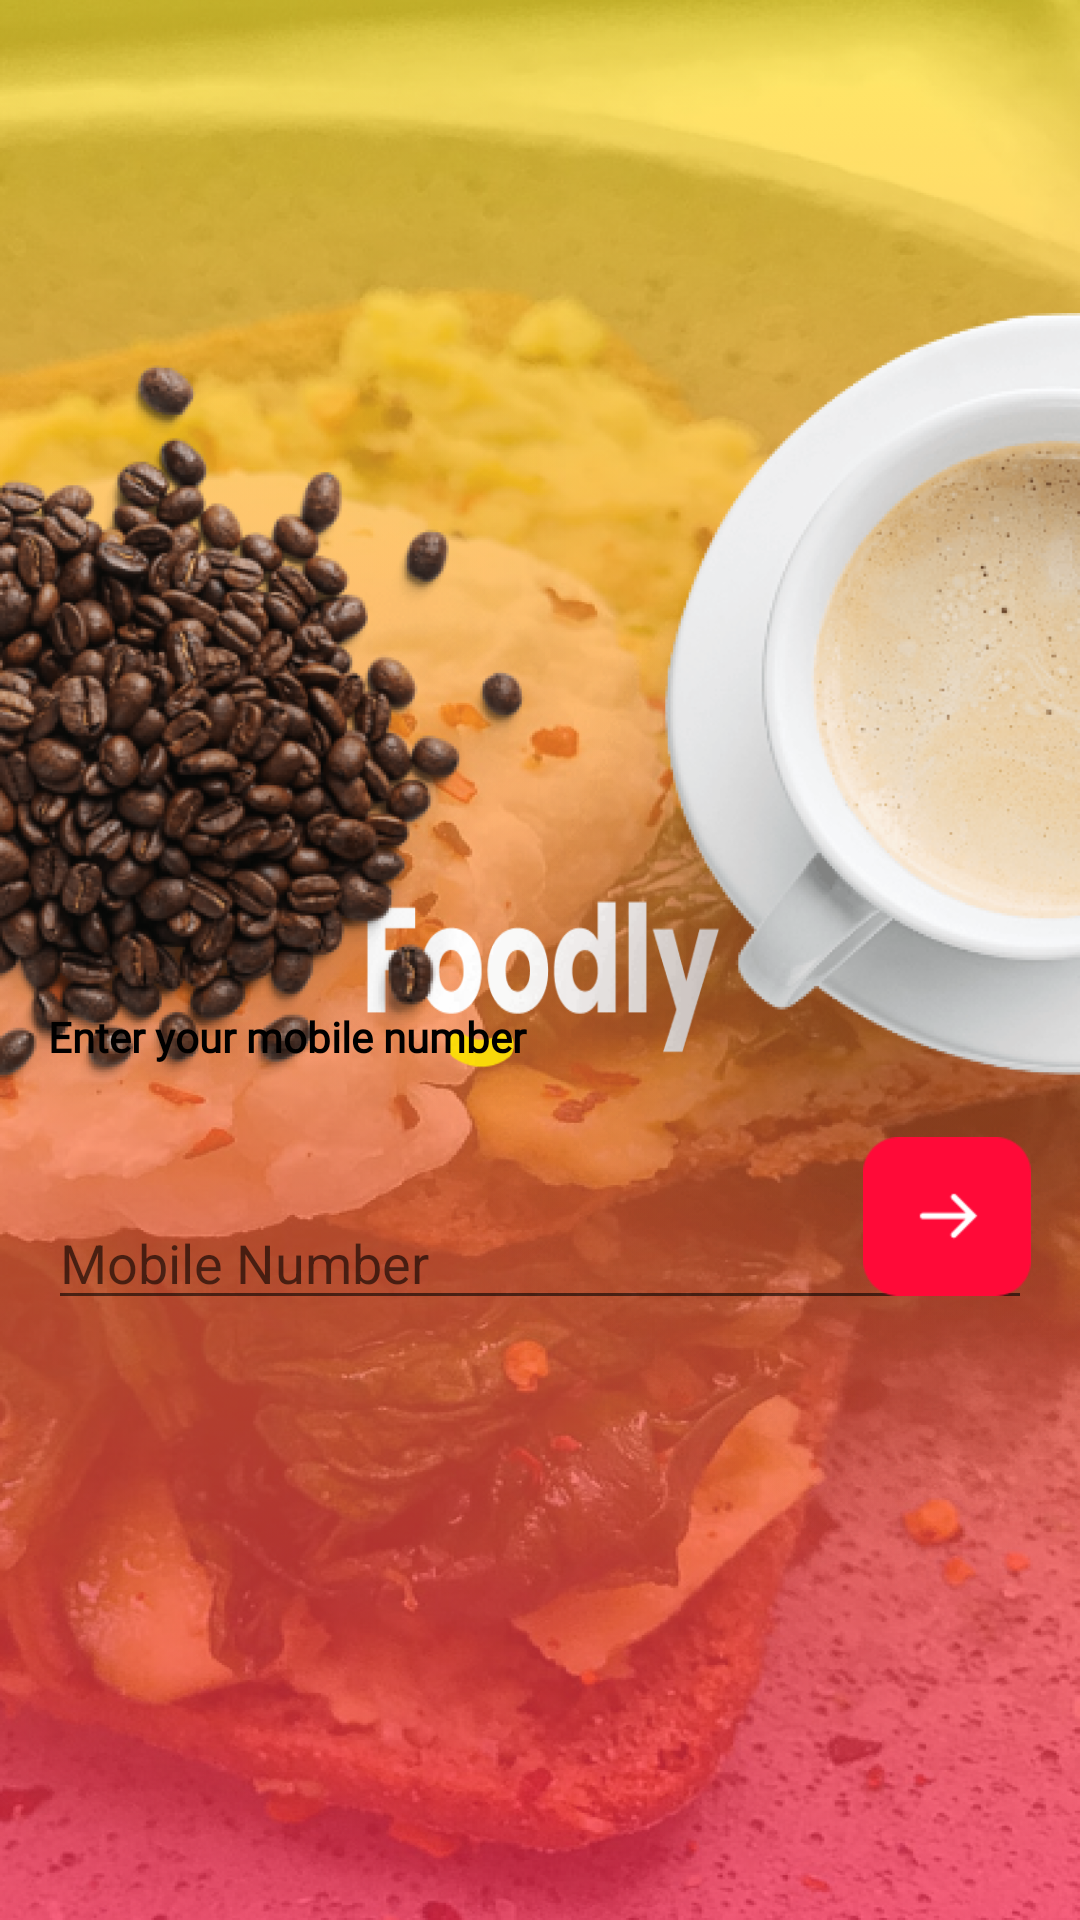

Where to tap for icons on this 1080 x 1920 app screen, as point (x, y):
custom next: point (945, 1215)
